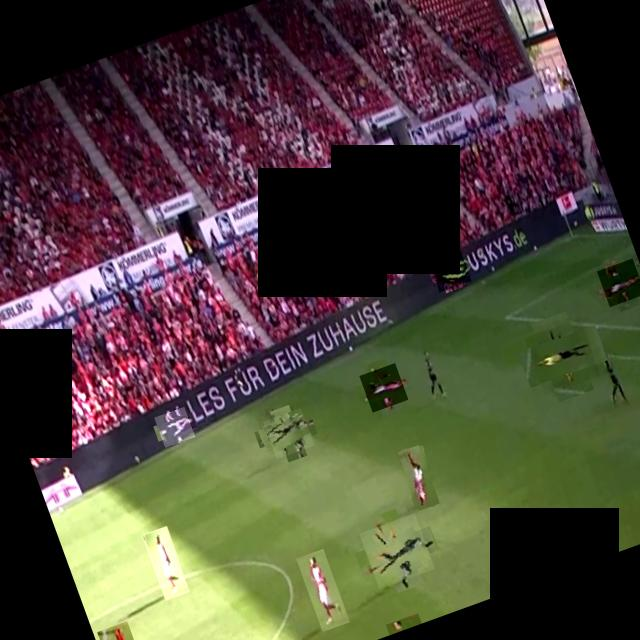referee: (524, 318, 600, 396)
soccer-player: (359, 513, 435, 589), (296, 548, 350, 632), (142, 526, 190, 600), (396, 443, 442, 512), (264, 408, 314, 459), (359, 362, 408, 412), (257, 406, 306, 456), (597, 258, 640, 307), (428, 248, 472, 292), (154, 407, 196, 448), (97, 621, 157, 640), (386, 613, 422, 635)
